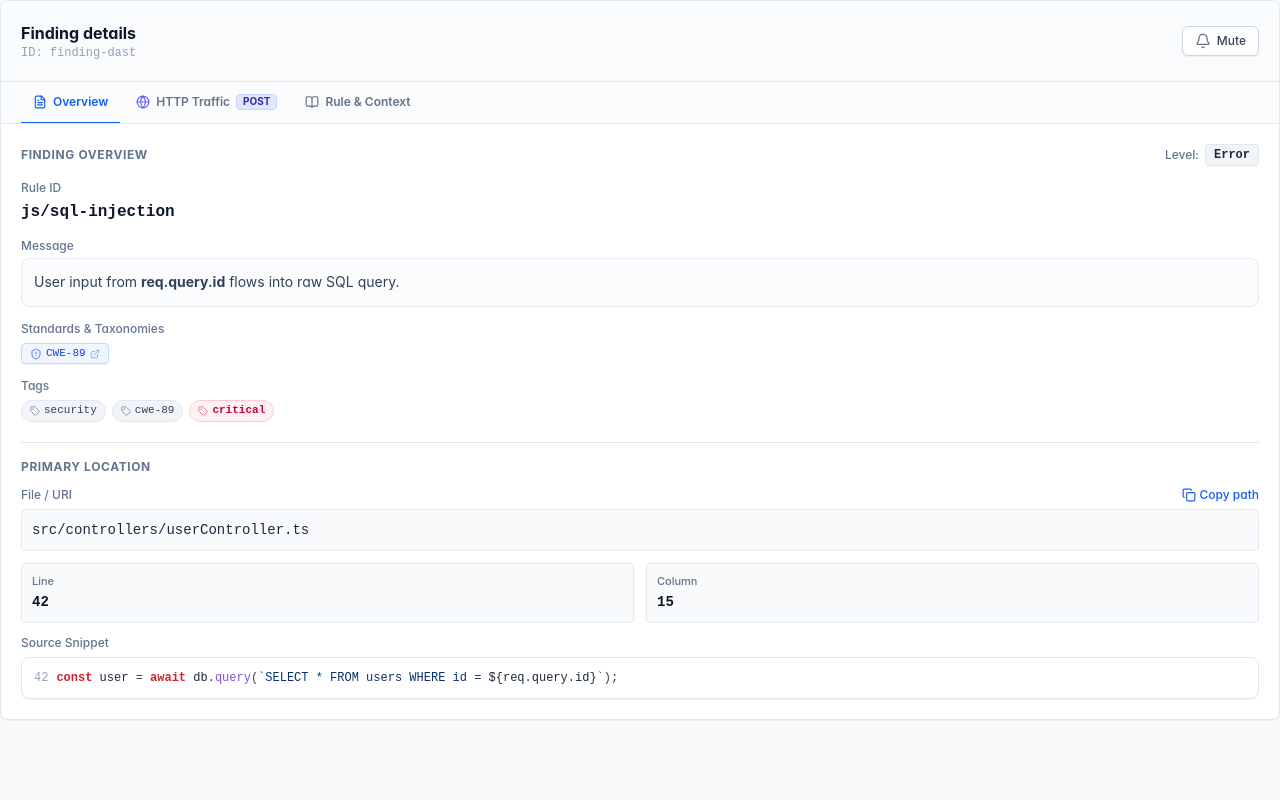
Test case: DetailsPanel Component › renders HTTP Traffic tab when finding has webRequest and toggles request/response
The image size is (1280, 800).
Click the button "HTTP Traffic POST": (207, 103) [124, 82, 290, 124]
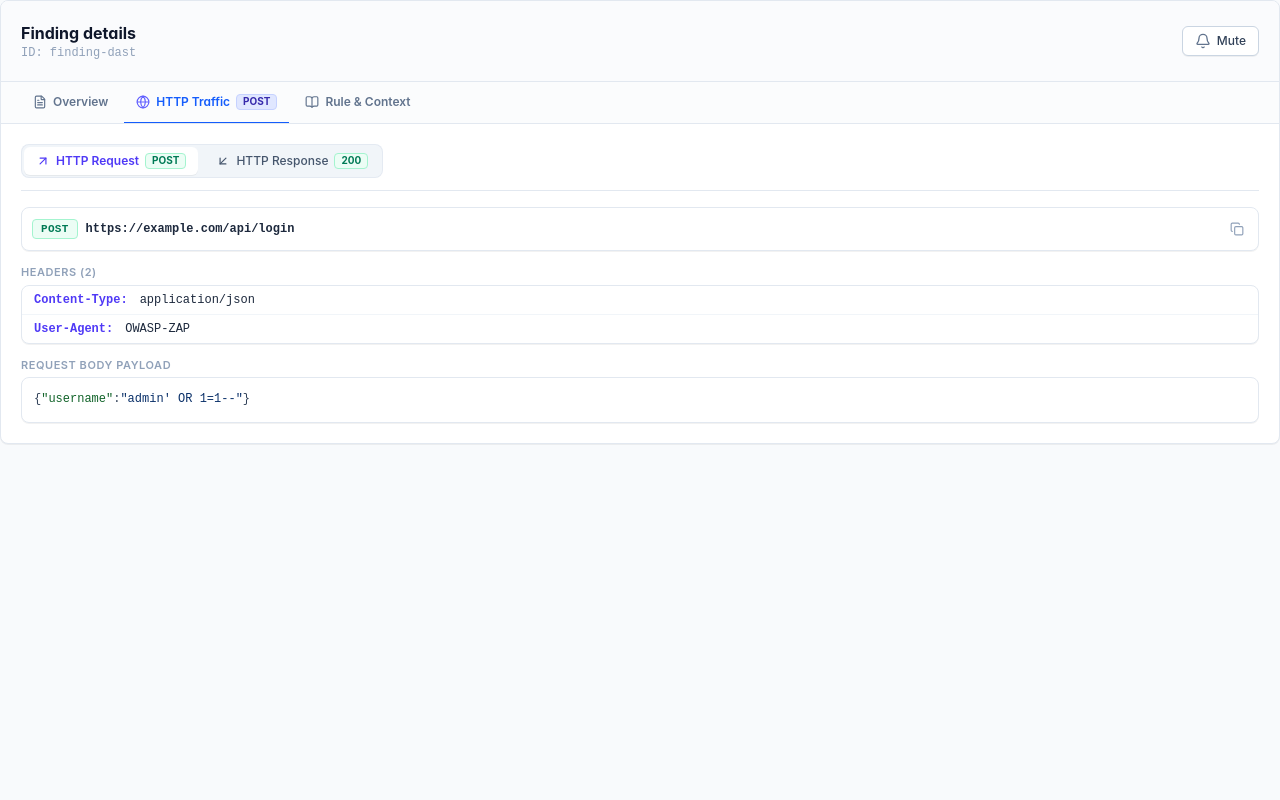
expect the text "https://example.com/api/login" is shown: met, box [86, 221, 294, 237]
expect the text "OWASP-ZAP" is shown: met, box [125, 321, 190, 337]
// Toggle to response
Click the button "HTTP Response 200": (292, 161) [204, 147, 380, 175]
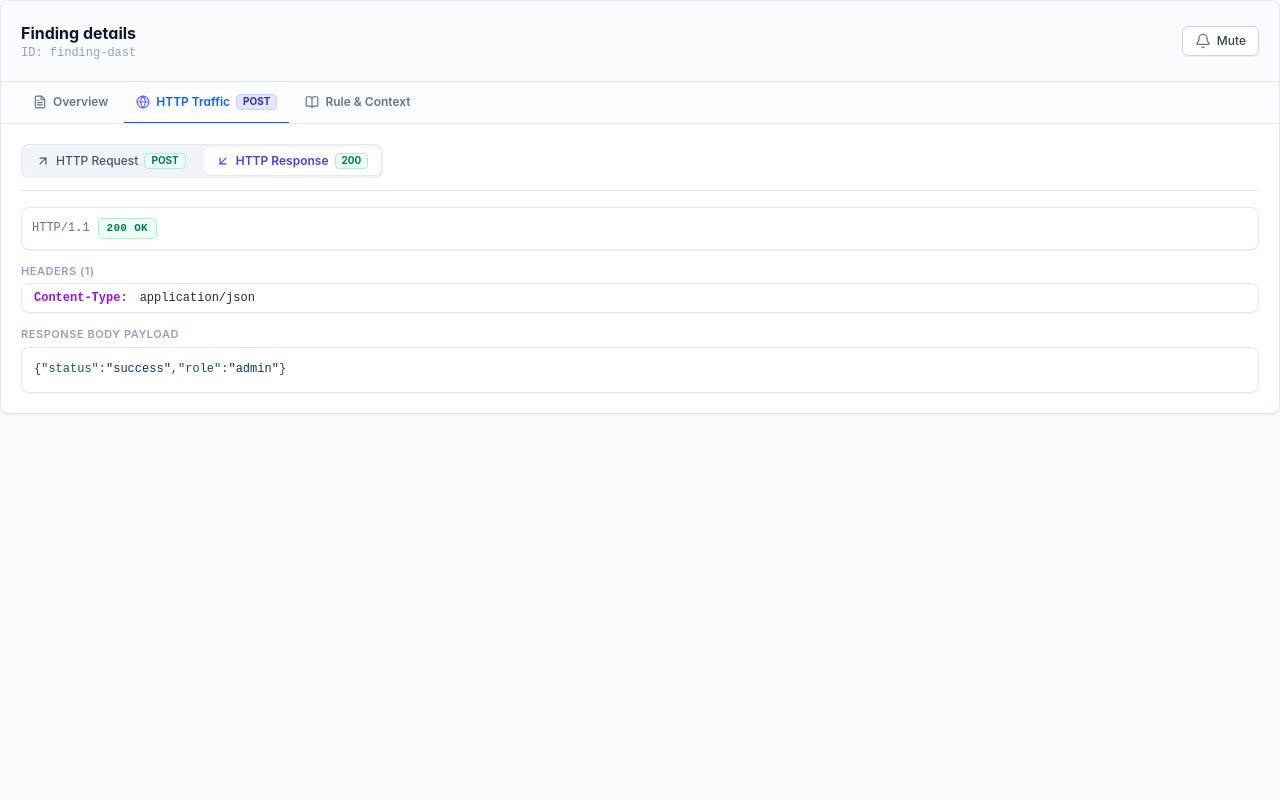
expect the text "200" is shown: met, box [334, 153, 368, 169]
expect the text "HTTP/1.1" is shown: met, box [32, 220, 90, 236]
